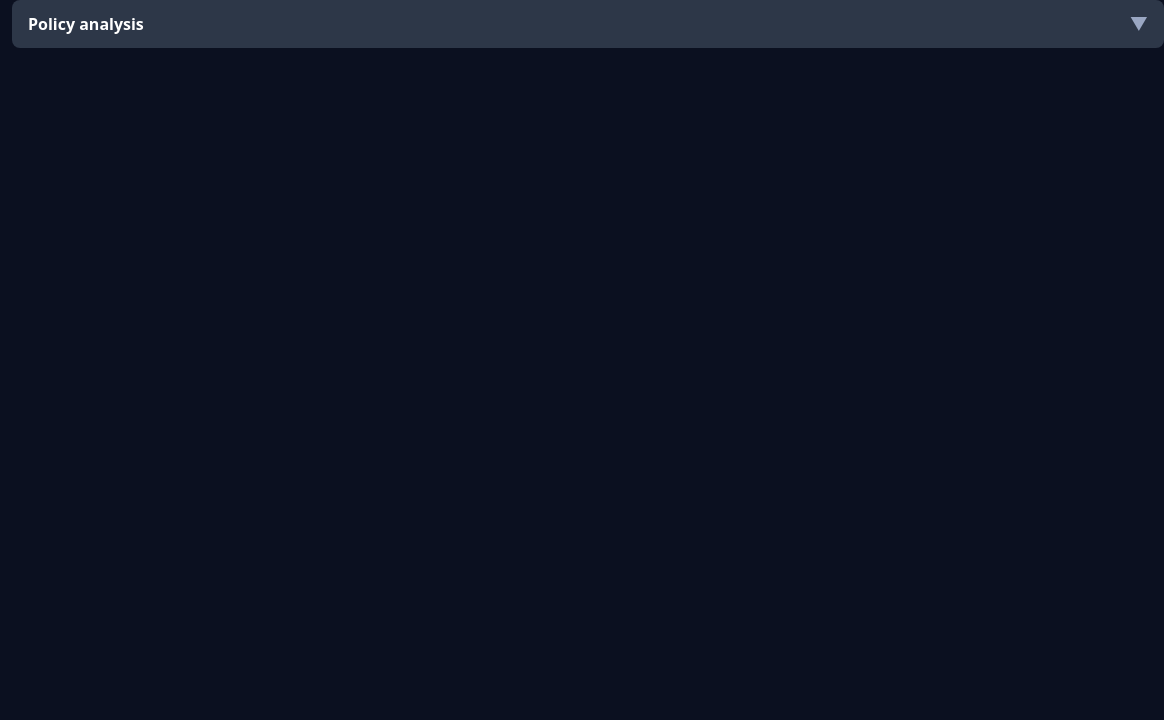
Test case: PolicyAnalysis Human-readable tab › describes NotAction and NotResource as "everything except"
Click the heading "Policy analysis" at point(86, 24), box [28,13,144,35]
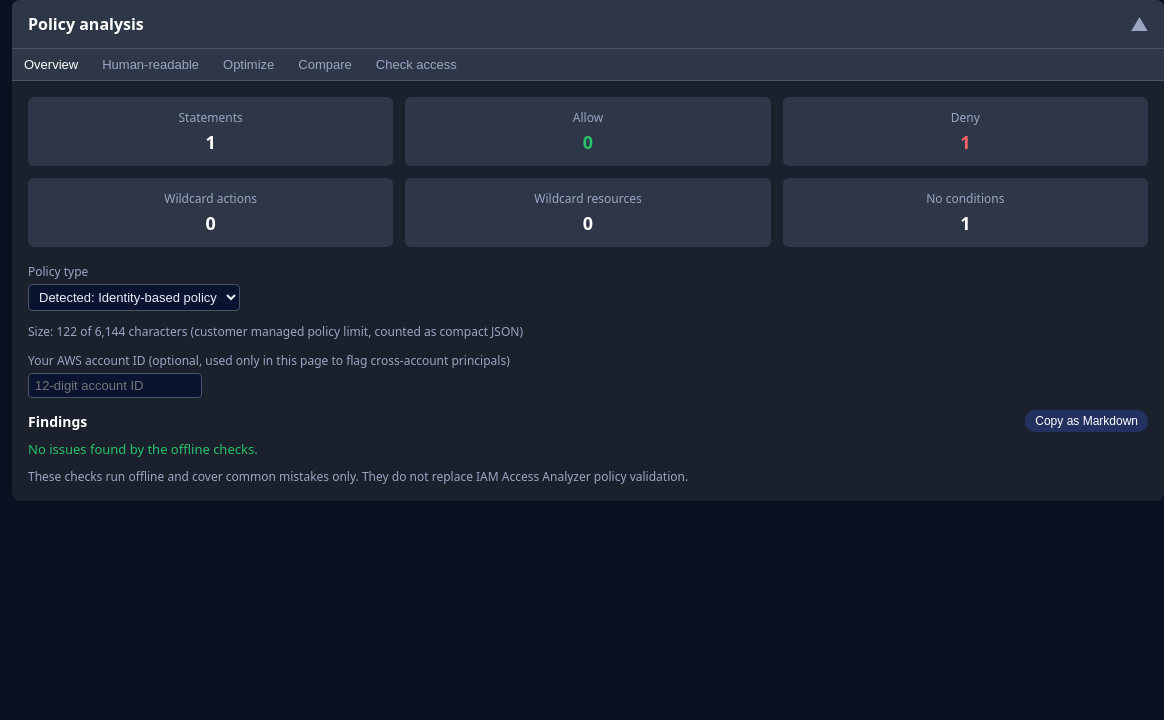
Click the button "Human-readable" at point(151, 64), box [90,49,211,80]
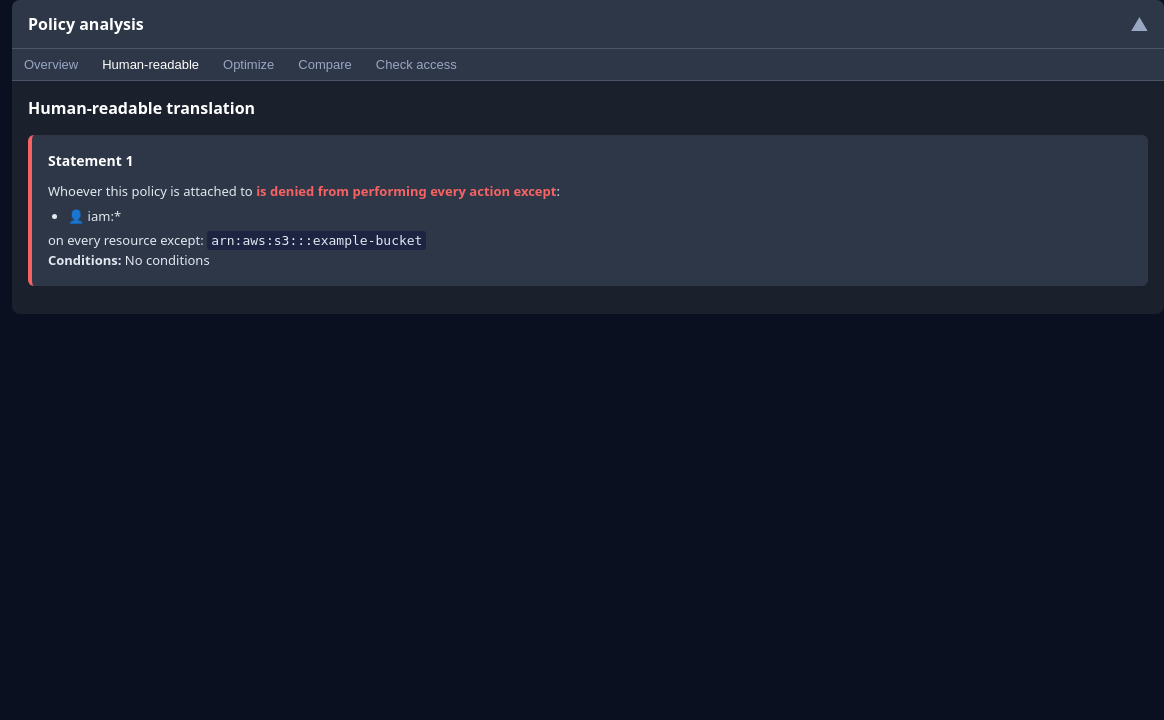
Expected: the element that starts with "Policy analysis" shows "iam:*", [88,206,121,224]
Expected: the element that starts with "Policy analysis" shows "is denied from performing every action except", [256,182,556,200]
Expected: the element that starts with "Policy analysis" shows "on every resource except", [48,231,200,249]
